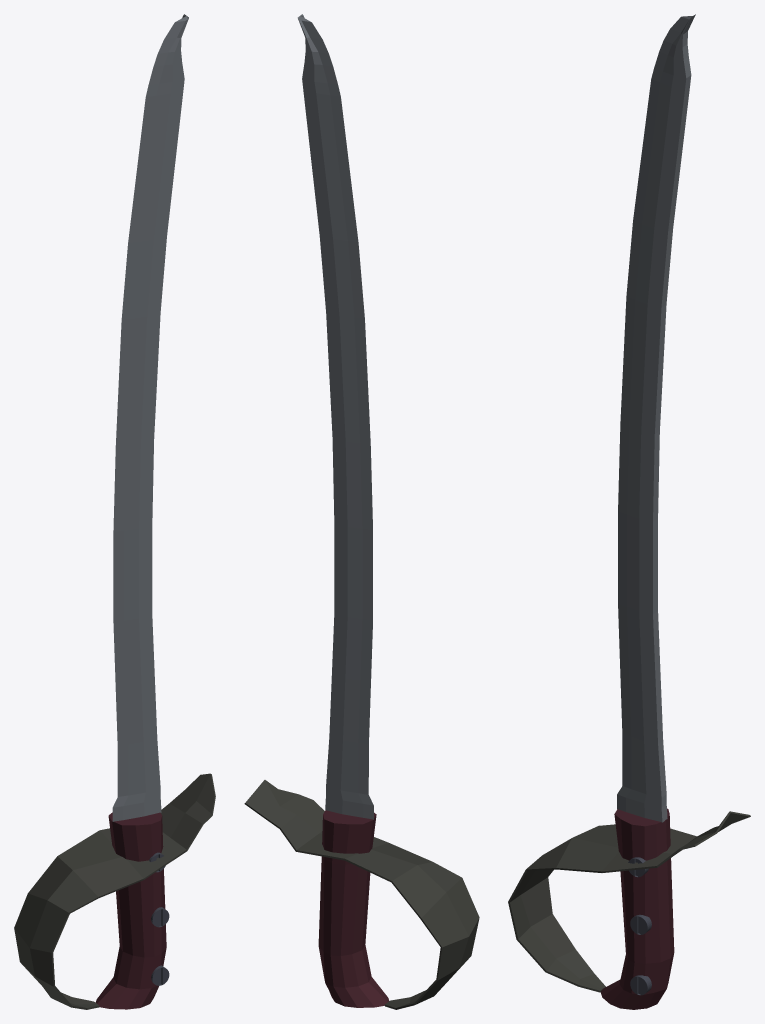
The model's file is MEELEE LEVEL-2 WEAPON (1).fbx.
3 renders of one model, left to right at view 1: azimuth 30°, elevation 25°; view 2: azimuth 150°, elevation 25°; view 3: azimuth 330°, elevation 25°, orthographic. The views are drawn at different scales.
Visible parts, largest first — view 1: Cube; view 2: Cube; view 3: Cube.
Part boxes in pixels (x1=…): Cube: x1=14, y1=14, x2=215, y2=1009; Cube: x1=244, y1=14, x2=479, y2=1009; Cube: x1=508, y1=14, x2=750, y2=1009.
Bounding box in the file's own units: 1.17 × 0.4556 × 5.47.
